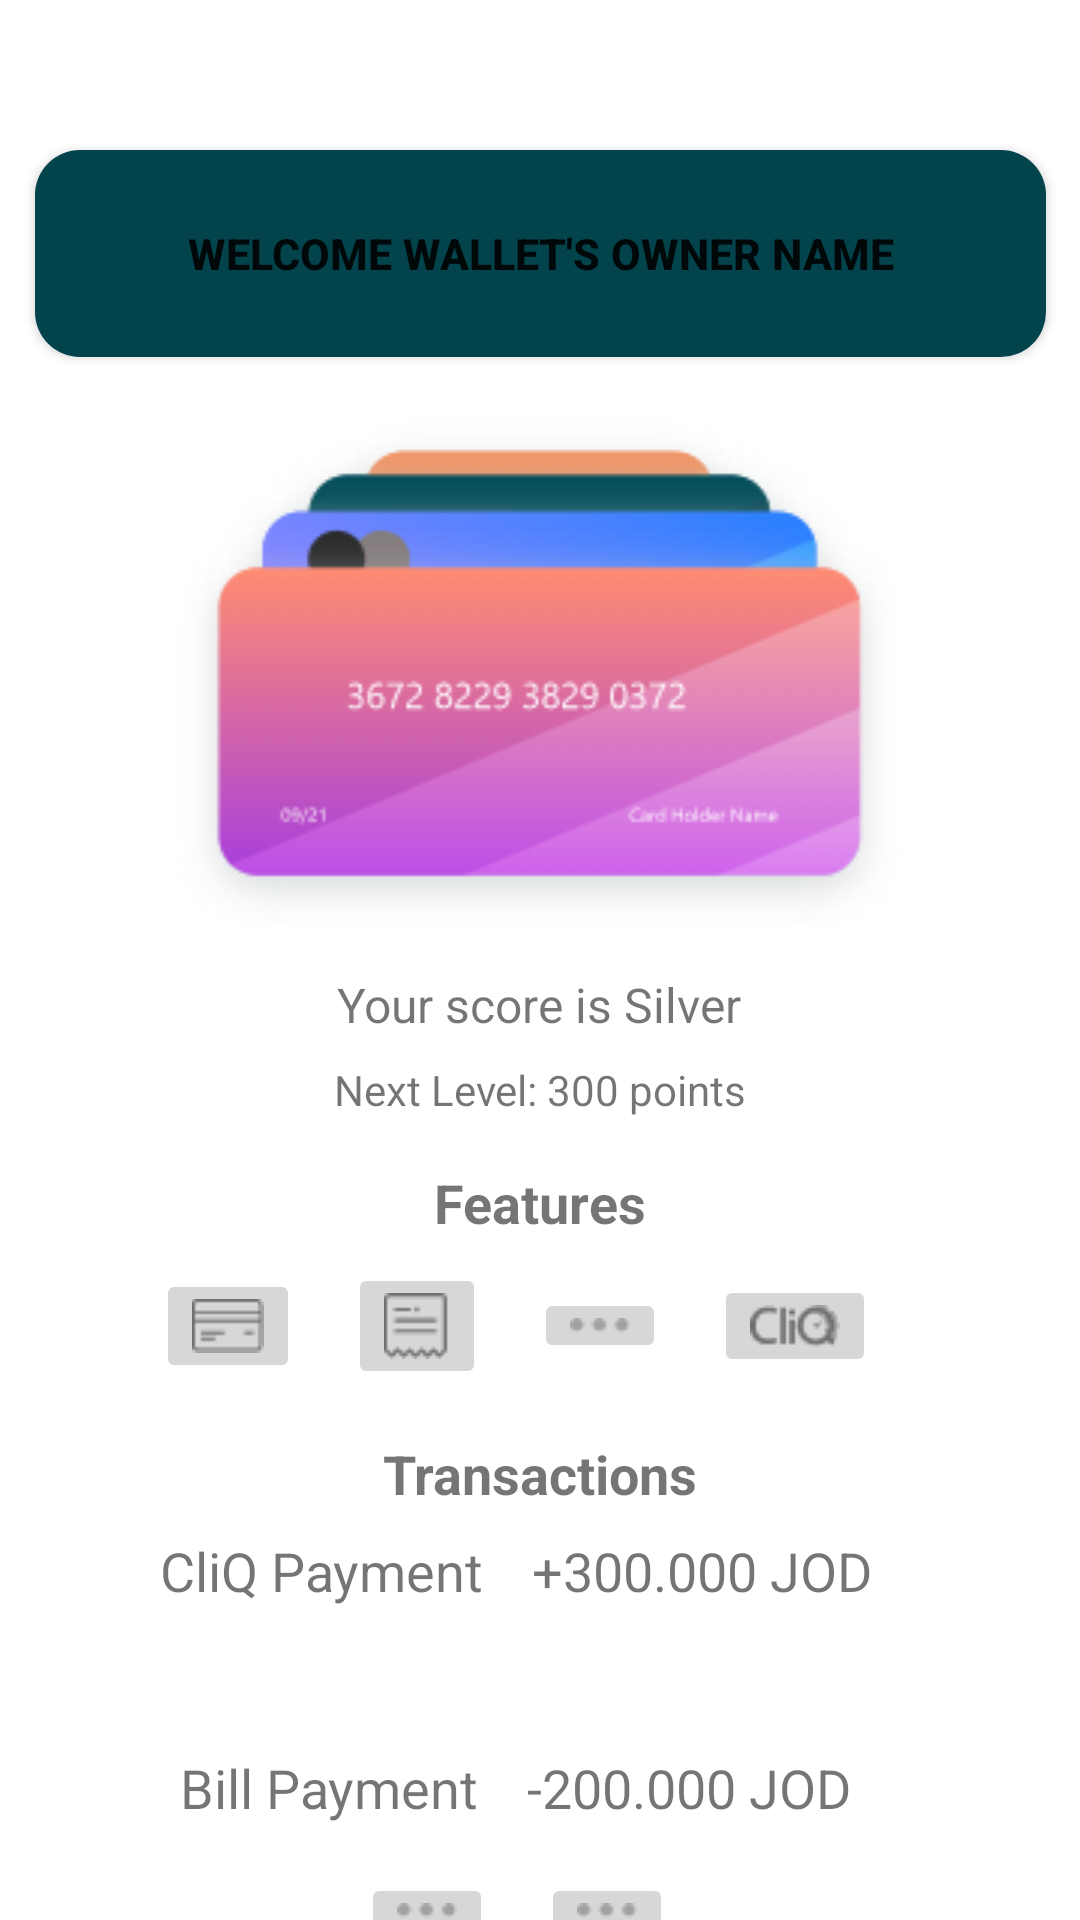

Named icons in this screenshot (1080w x 1920h) and their centers, point (x, y):
bill: point (417, 1326)
cards: point (228, 1326)
more: point (600, 1325)
